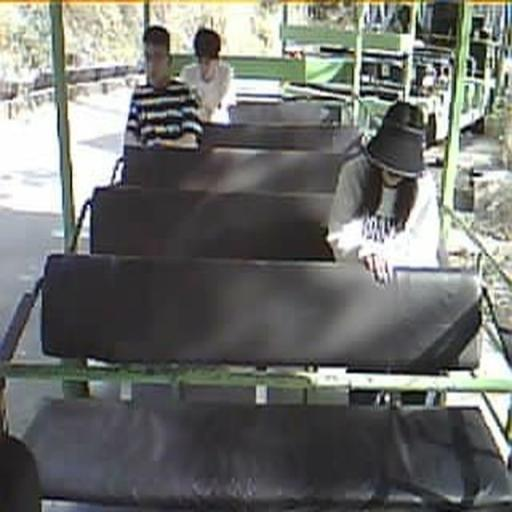persona: (326, 98, 444, 288), (122, 24, 205, 157), (179, 26, 234, 122)
